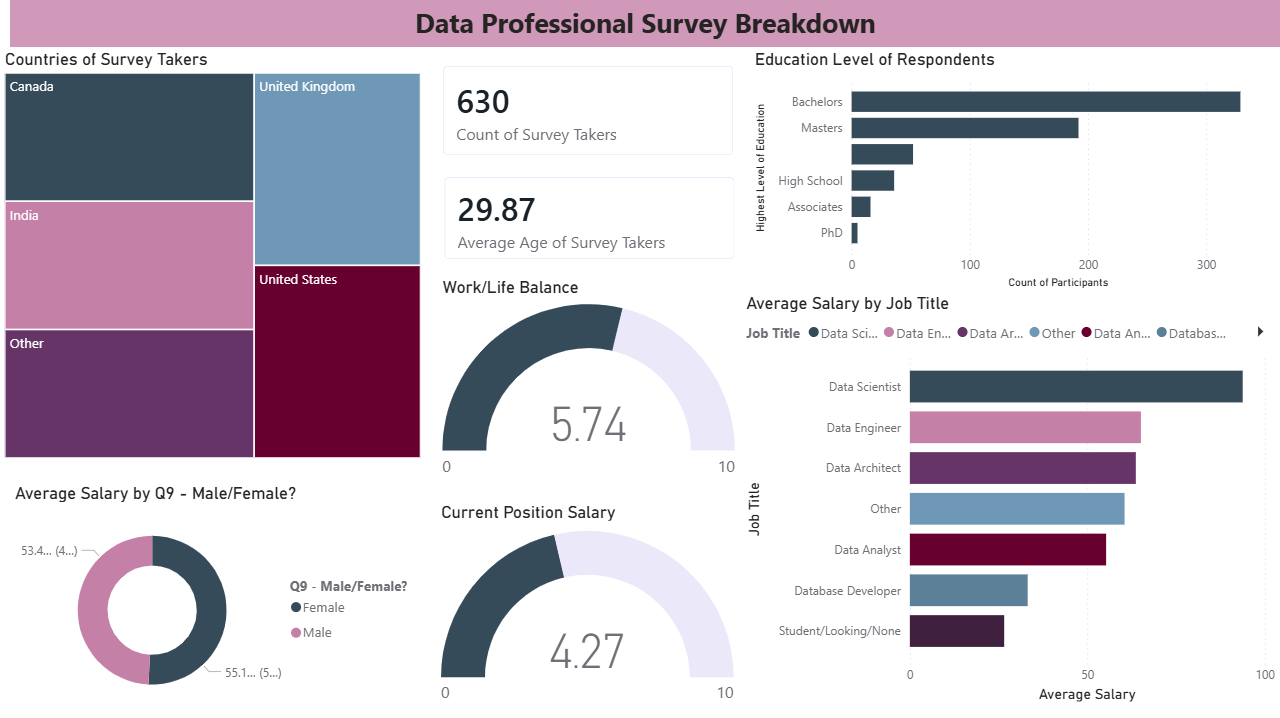

The page's visual inventory and layout, read from the dashboard file:
{"tool":"powerbi","page":{"name":"Page 1","canvas":[1280,720],"ordinal":0},"visuals":[{"type":"textbox","box":[9.6,0,1270.7,48],"z":0},{"type":"cardVisual","fields":{"Data":["Count(Data Professional Survey.Unique ID)"]},"box":[425.7,49.9,324.2,123],"z":1000},{"type":"cardVisual","fields":{"Data":["Avg(Data Professional Survey.Q10 - Current Age)"]},"box":[427.3,161.3,324.2,116.4],"z":2000},{"type":"barChart","title":"Average  Salary by  Job Title ","fields":{"Category":["Data Professional Survey.Q1 - Which Title Best Fits your Current Role?.1"],"Y":["Avg(Data Professional Survey.Average Salary)"],"Series":["Data Professional Survey.Q1 - Which Title Best Fits your Current Role?.1"]},"box":[741.6,294.3,538.7,414],"z":3000},{"type":"treemap","title":"Countries of Survey Takers","fields":{"Group":["Data Professional Survey.Q11 - Which Country do you live in?.1"],"Values":["Count(Data Professional Survey.Q11 - Which Country do you live in?.1)"]},"box":[0,49.9,425.7,414],"z":4000},{"type":"gauge","title":"Work/Life Balance","fields":{"Y":["Avg(Data Professional Survey.Q6 - How Happy are you in your Current Position with the following? (Work/Life Balance))"],"MinValue":["Min(Data Professional Survey.Q6 - How Happy are you in your Current Position with the following? (Work/Life Balance))1"],"MaxValue":["Max(Data Professional Survey.Q6 - How Happy are you in your Current Position with the following? (Work/Life Balance))2"]},"box":[437.3,277.7,302.6,214.5],"z":5000},{"type":"gauge","title":"Current Position Salary ","fields":{"Y":["Avg(Data Professional Survey.Q6 - How Happy are you in your Current Position with the following? (Salary))"],"MinValue":["Min(Data Professional Survey.Q6 - How Happy are you in your Current Position with the following? (Salary))"],"MaxValue":["Max(Data Professional Survey.Q6 - How Happy are you in your Current Position with the following? (Salary))"]},"box":[435.6,502.2,302.6,217.8],"z":6000},{"type":"donutChart","fields":{"Category":["Data Professional Survey.Q9 - Male/Female?"],"Y":["Avg(Data Professional Survey.Average Salary)"]},"box":[10,483.9,415.7,236.1],"z":7000},{"type":"clusteredBarChart","title":"Education Level of Respondents","fields":{"Category":["Data Professional Survey.Q12 - Highest Level of Education"],"Y":["CountNonNull(Data Professional Survey.Unique ID)"]},"box":[749.9,49.9,530.4,244.4],"z":8000}]}

Visuals, with their boxes in screenshot pixels (x1, y1, x2, y2), scaled from the page's 1280x720 canvas onto the 1280x718 screenshot:
textbox: box(10, 0, 1279, 48)
cardVisual - Count(Data Professional Survey.Unique ID): box(426, 50, 750, 172)
cardVisual - Avg(Data Professional Survey.Q10 - Current Age): box(427, 161, 752, 277)
"Average  Salary by  Job Title " barChart: box(742, 293, 1279, 706)
"Countries of Survey Takers" treemap: box(0, 50, 426, 463)
"Work/Life Balance" gauge: box(437, 277, 740, 491)
"Current Position Salary " gauge: box(436, 501, 738, 717)
donutChart - Data Professional Survey.Q9 - Male/Female? x Avg(Data Professional Survey.Average Salary): box(10, 483, 426, 717)
"Education Level of Respondents" clusteredBarChart: box(750, 50, 1279, 293)
